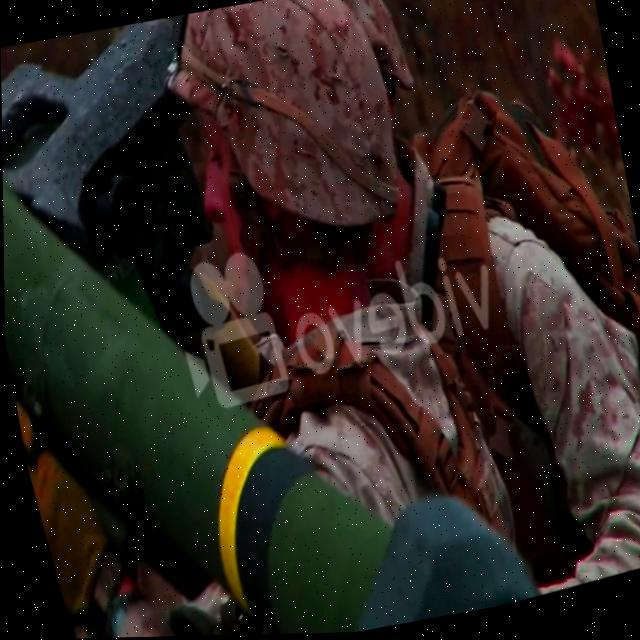rocket: (0, 12, 536, 640)
